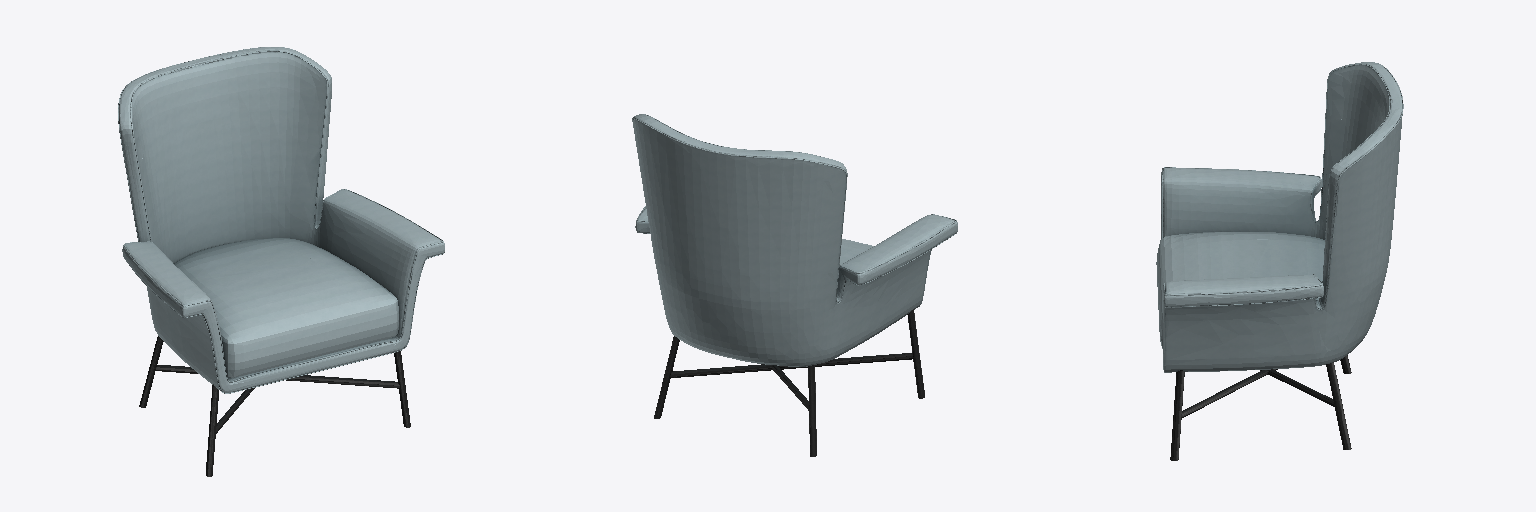
3 views of the same model, side by side, from view 1: azimuth 30°, elevation 25°; view 2: azimuth 150°, elevation 25°; view 3: azimuth 270°, elevation 25° (orthographic).
Visible parts, largest first — view 1: solid_001, solid_002; view 2: solid_001, solid_002; view 3: solid_001, solid_002.
Part boxes in pixels (x1,y1,x2,y2): solid_001: (118, 47, 444, 393); solid_002: (139, 336, 410, 476); solid_001: (632, 114, 957, 366); solid_002: (654, 309, 924, 456); solid_001: (1156, 62, 1403, 372); solid_002: (1170, 355, 1351, 460).
Size of the model in its own units: 0.928 by 1.05 by 0.7524.
Materials: 1 (1 with a texture image).